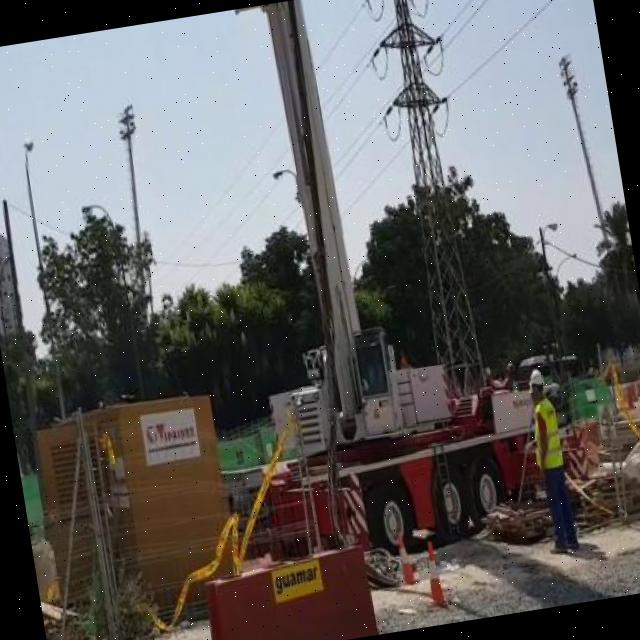Mobile Crane: (148, 0, 593, 578)
